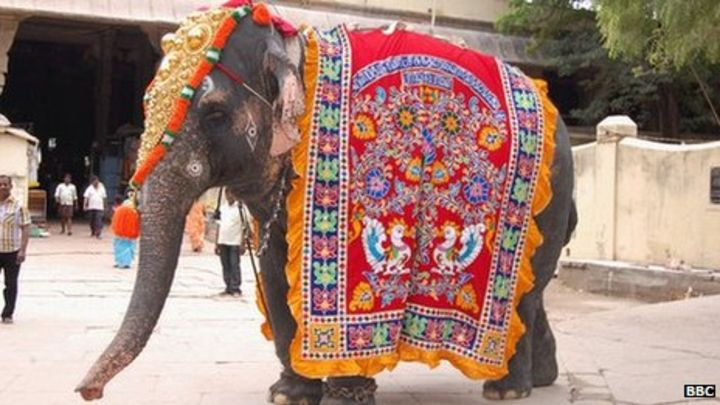Indian Elephant: (71, 7, 586, 405)
